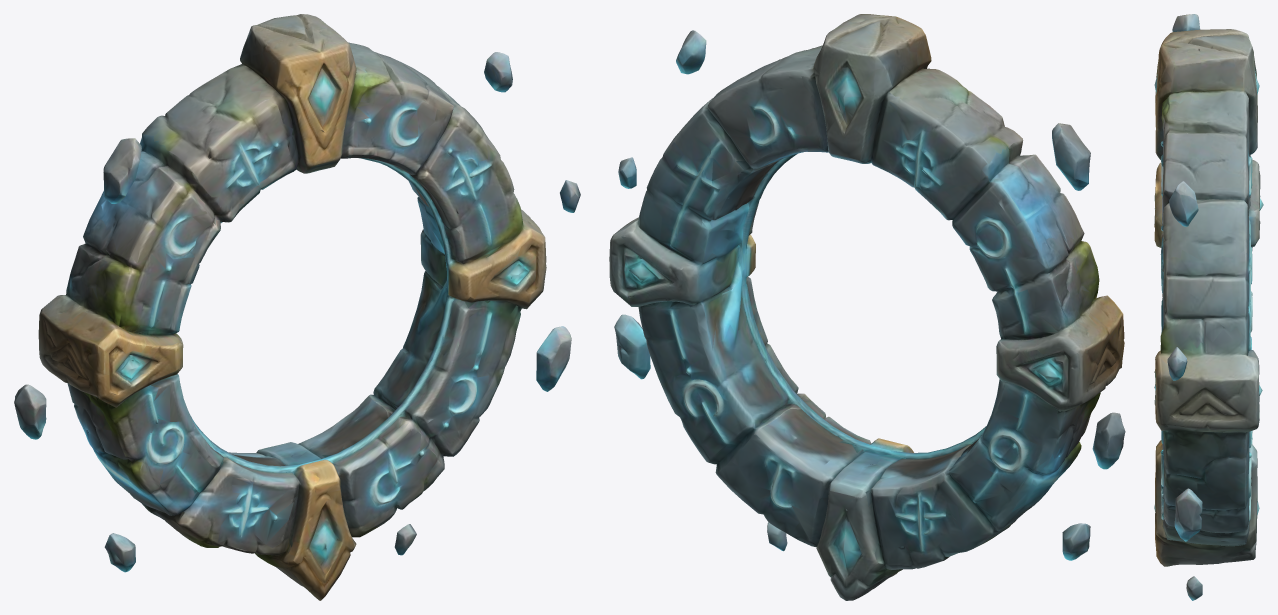
Rendered from RunicSpeedRing.fbx.
3 renders of one model, left to right at view 1: azimuth 30°, elevation 25°; view 2: azimuth 150°, elevation 25°; view 3: azimuth 270°, elevation 25°, orthographic. The views are drawn at different scales.
Visible parts, largest first — view 1: RunicSpeedRing; view 2: RunicSpeedRing; view 3: RunicSpeedRing.
Boxes of the visible parts, bbox=[...] form: RunicSpeedRing: bbox=[14, 14, 580, 600]; RunicSpeedRing: bbox=[609, 14, 1125, 600]; RunicSpeedRing: bbox=[1154, 14, 1263, 600].
Size of the model in its own units: 320 by 320 by 60.
1 material, 1 textured.
